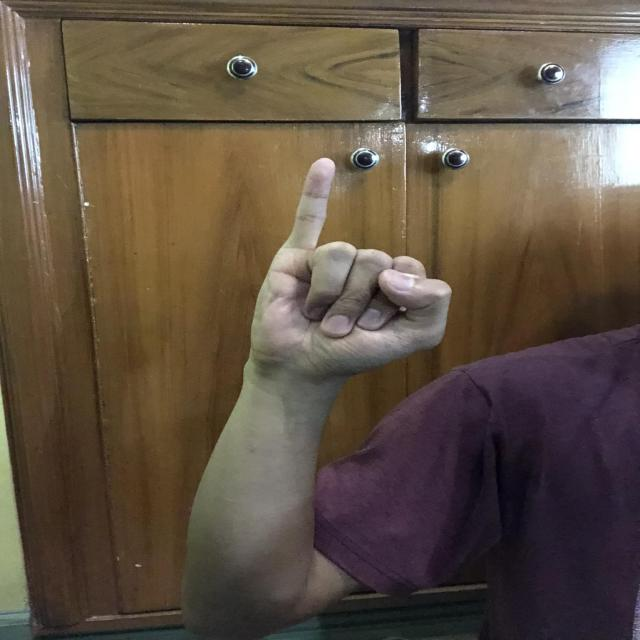I: (248, 154, 454, 381)
